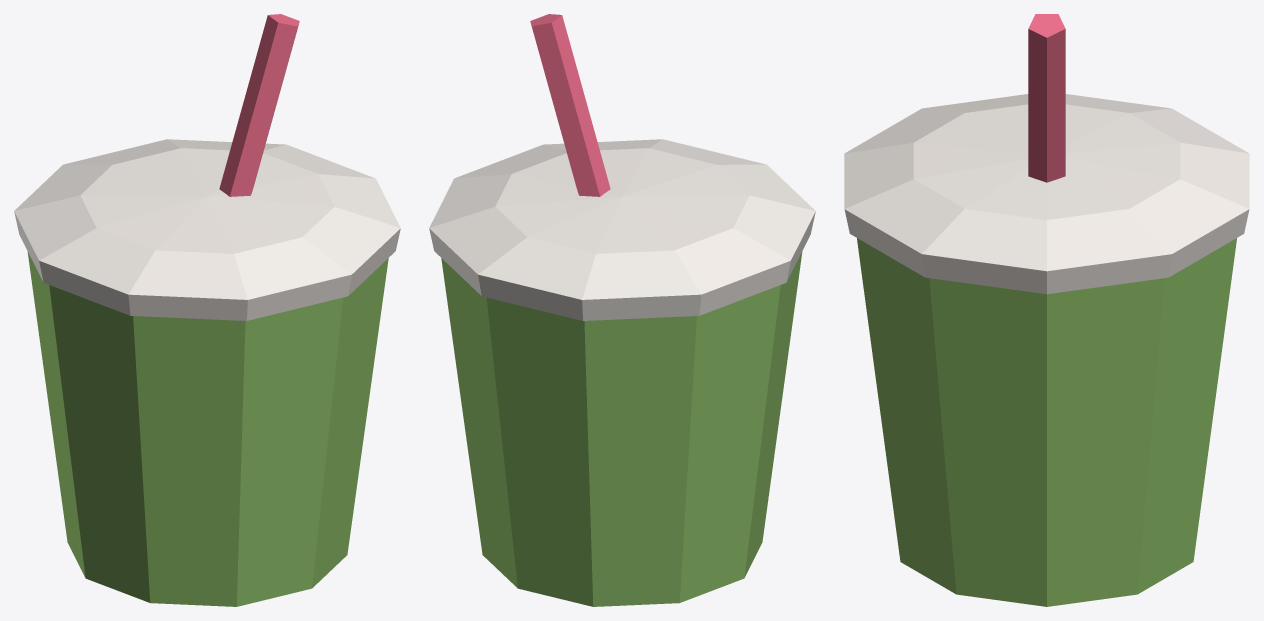
The model's file is Food_Smoothie.obj.
3 views of the same model, side by side, from view 1: azimuth 30°, elevation 25°; view 2: azimuth 150°, elevation 25°; view 3: azimuth 270°, elevation 25° (orthographic). The views are drawn at different scales.
Size of the model in its own units: 1.52 by 2.22 by 1.45.
